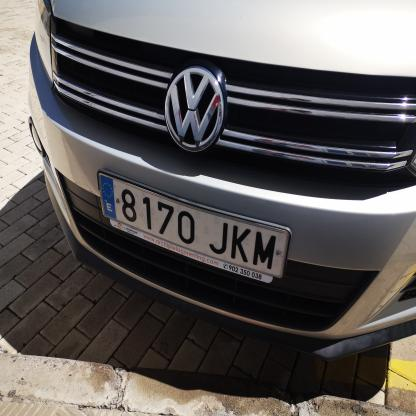patente: (97, 170, 290, 280)
